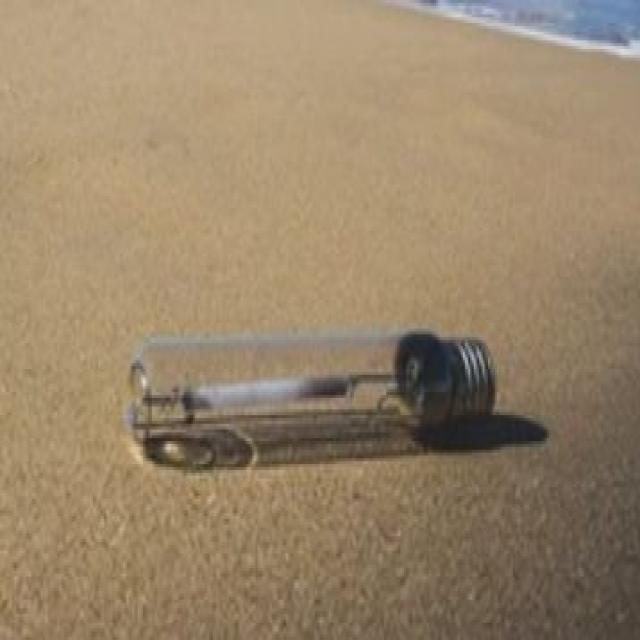electronic: (123, 320, 497, 470), (393, 328, 495, 429)
